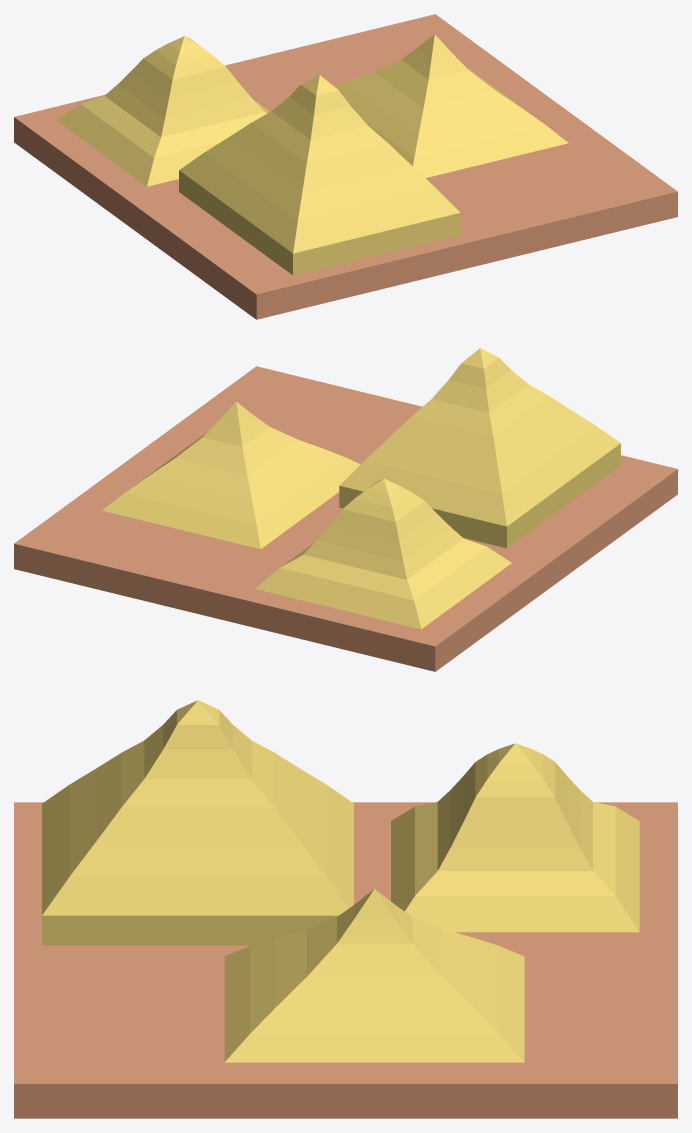
3 renders of one model, top to bottom at view 1: azimuth 30°, elevation 25°; view 2: azimuth 150°, elevation 25°; view 3: azimuth 270°, elevation 25°, orthographic. The views are drawn at different scales.
Visible parts, largest first — view 1: Pyramid; view 2: Pyramid; view 3: Pyramid.
Part boxes in pixels (x1,y1,x2,y2): Pyramid: [14, 14, 677, 319]; Pyramid: [14, 348, 677, 671]; Pyramid: [14, 700, 677, 1118].
Size of the model in its own units: 149 by 55.1 by 148.
